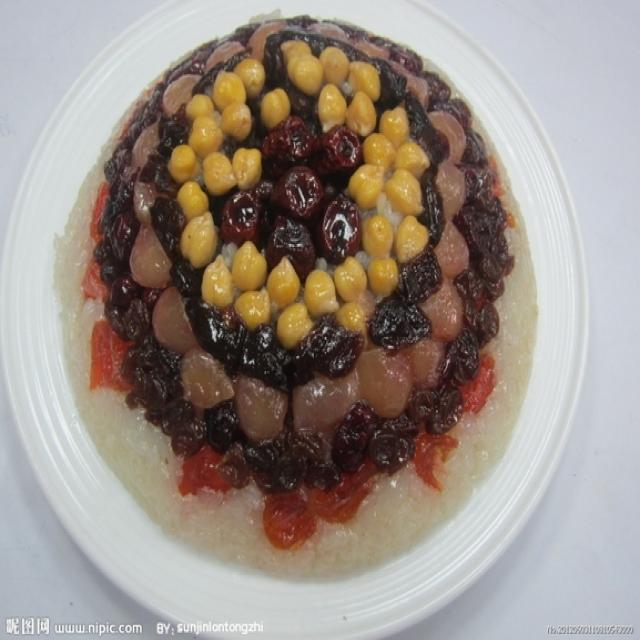米饭主食: (38, 8, 566, 588)
